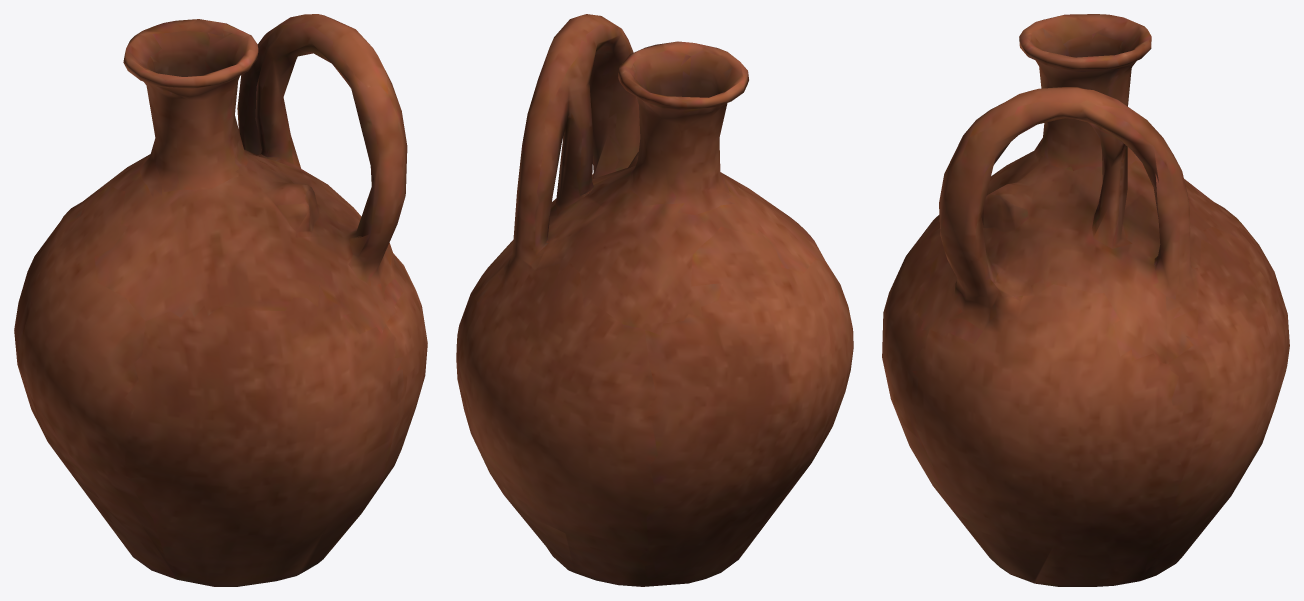
The model's file is terracotta-amphora-v001.glb.
3 renders of one model, left to right at view 1: azimuth 30°, elevation 25°; view 2: azimuth 150°, elevation 25°; view 3: azimuth 270°, elevation 25°, orthographic. The views are drawn at different scales.
Visible parts, largest first — view 1: terracotta-amphora; view 2: terracotta-amphora; view 3: terracotta-amphora.
Part boxes in pixels (x1,y1,x2,y2): terracotta-amphora: [14, 14, 427, 586]; terracotta-amphora: [456, 14, 853, 586]; terracotta-amphora: [882, 14, 1289, 586].
Size of the model in its own units: 0.6556 by 0.8959 by 0.6604.
1 material, 1 textured.
